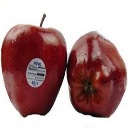apple: (67, 31, 128, 118)
